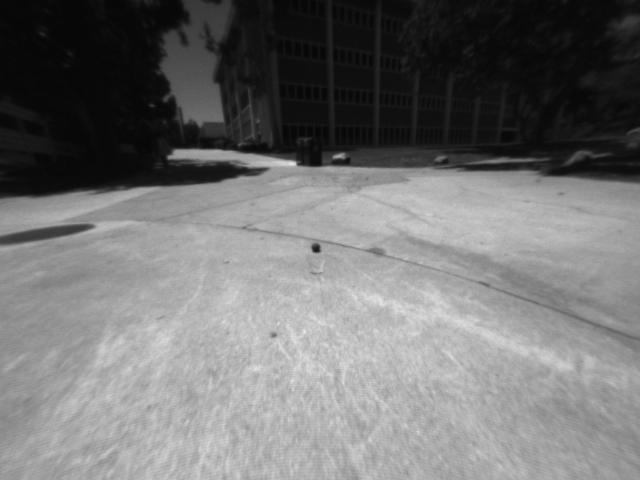dogtoy: (307, 238, 326, 256)
